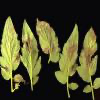Potato leaf late blight: (54, 22, 79, 96), (19, 18, 42, 92), (0, 16, 21, 93), (76, 26, 99, 96), (36, 17, 59, 66)
